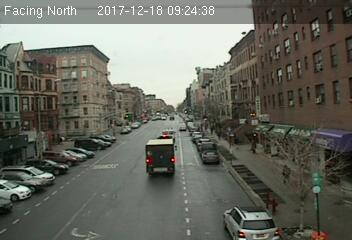car: (223, 202, 284, 240), (201, 150, 220, 165)
ups: (145, 139, 177, 178)
